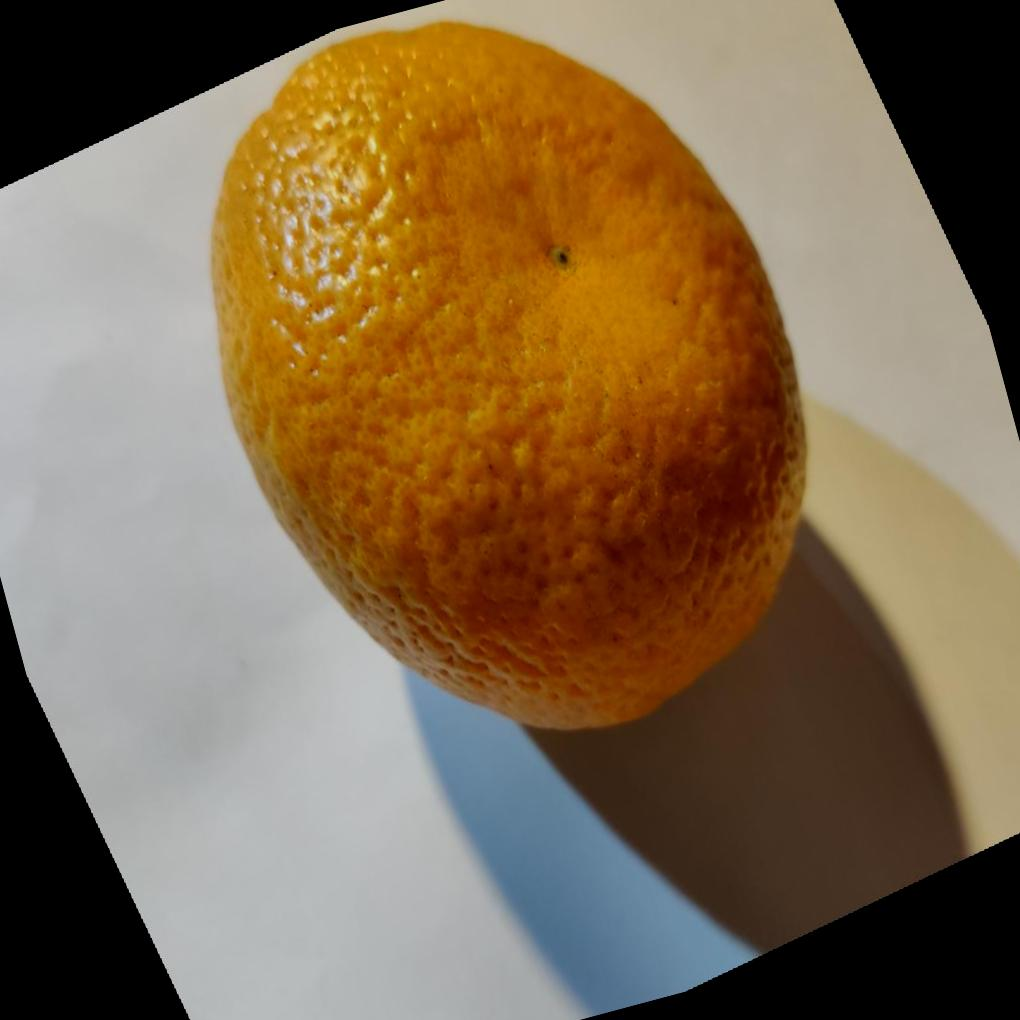FreshGuava: (207, 21, 809, 735)
